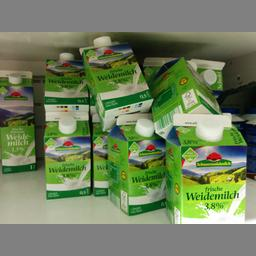milk: (164, 111, 246, 223), (76, 32, 154, 121), (103, 112, 166, 216), (36, 103, 90, 200), (0, 66, 38, 172), (42, 48, 89, 105)
